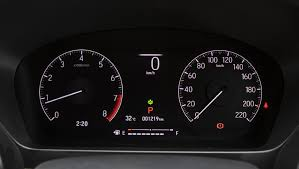Digital_Meter: (123, 113, 169, 125)
